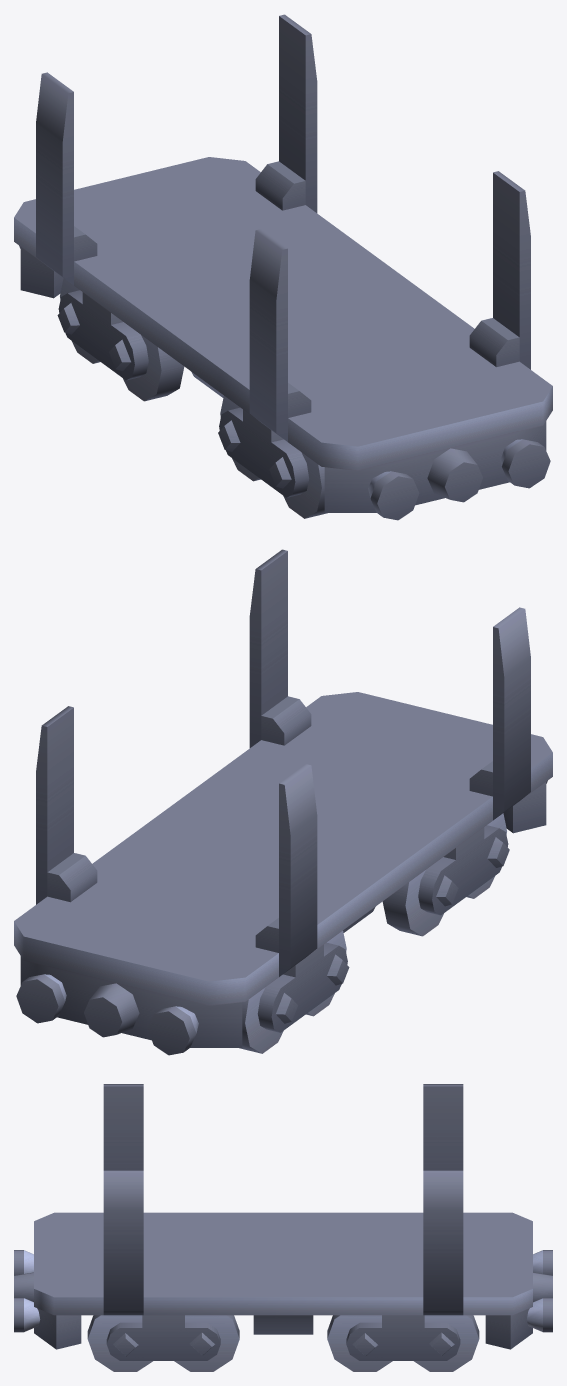
Rendered from flakvagn.glb.
The picture shows the model from 3 angles, top to bottom: view 1: azimuth 30°, elevation 25°; view 2: azimuth 150°, elevation 25°; view 3: azimuth 270°, elevation 25°; orthographic projection. The views are drawn at different scales.
Parts seen in each view (by area): view 1: train-carriage-flatbed, wheels-back, wheels-front; view 2: train-carriage-flatbed, wheels-front, wheels-back; view 3: train-carriage-flatbed, wheels-front, wheels-back.
Boxes of the visible parts, box(x1,y1,x2,y2) form: train-carriage-flatbed: box(14, 14, 552, 520); wheels-back: box(57, 278, 184, 401); wheels-front: box(218, 396, 327, 518); train-carriage-flatbed: box(14, 549, 552, 1055); wheels-front: box(382, 813, 509, 936); wheels-back: box(239, 931, 349, 1053); train-carriage-flatbed: box(14, 1084, 552, 1349); wheels-front: box(87, 1315, 239, 1371); wheels-back: box(327, 1315, 479, 1371).
Size of the model in its own units: 1.1 by 1.16 by 2.7.
1 material, 1 textured.
